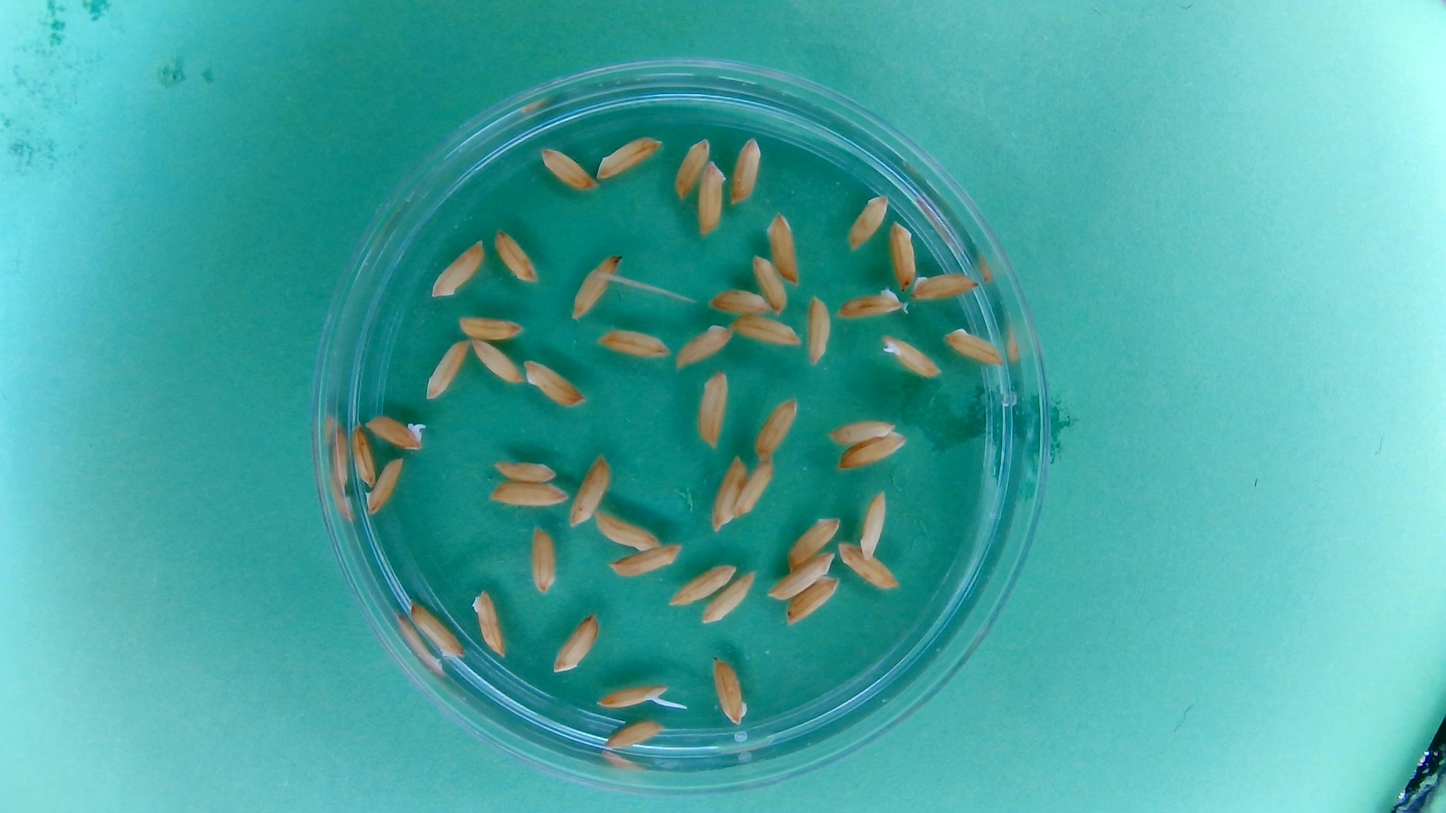no: (406, 596, 465, 660), (593, 132, 666, 183), (428, 236, 486, 300), (570, 251, 622, 321), (522, 356, 587, 410), (700, 568, 760, 626), (569, 452, 614, 528), (836, 540, 901, 592), (750, 394, 800, 461), (550, 610, 600, 676), (773, 553, 836, 605), (537, 142, 599, 194), (667, 561, 737, 607), (709, 453, 749, 532), (423, 336, 471, 401), (785, 514, 841, 568), (673, 321, 733, 371), (694, 369, 731, 450), (491, 225, 540, 286), (941, 324, 1007, 369), (784, 574, 840, 627), (609, 541, 685, 580), (844, 190, 891, 253), (593, 510, 663, 552), (709, 654, 749, 727), (834, 433, 909, 471), (764, 211, 802, 286), (469, 587, 508, 660), (733, 456, 776, 522), (363, 453, 407, 517), (593, 325, 671, 361), (469, 336, 524, 386), (730, 312, 804, 349), (672, 134, 712, 201), (695, 157, 728, 238), (908, 267, 980, 304), (728, 133, 764, 207), (834, 285, 905, 321), (751, 251, 789, 316), (489, 479, 570, 509), (888, 220, 920, 293), (527, 525, 560, 595), (857, 488, 888, 559), (826, 416, 898, 446), (706, 286, 776, 316), (348, 419, 378, 488), (456, 312, 525, 342), (604, 718, 667, 750), (804, 294, 832, 366), (489, 457, 559, 484)
yes: (881, 334, 942, 379), (363, 412, 428, 452), (590, 684, 674, 708)
